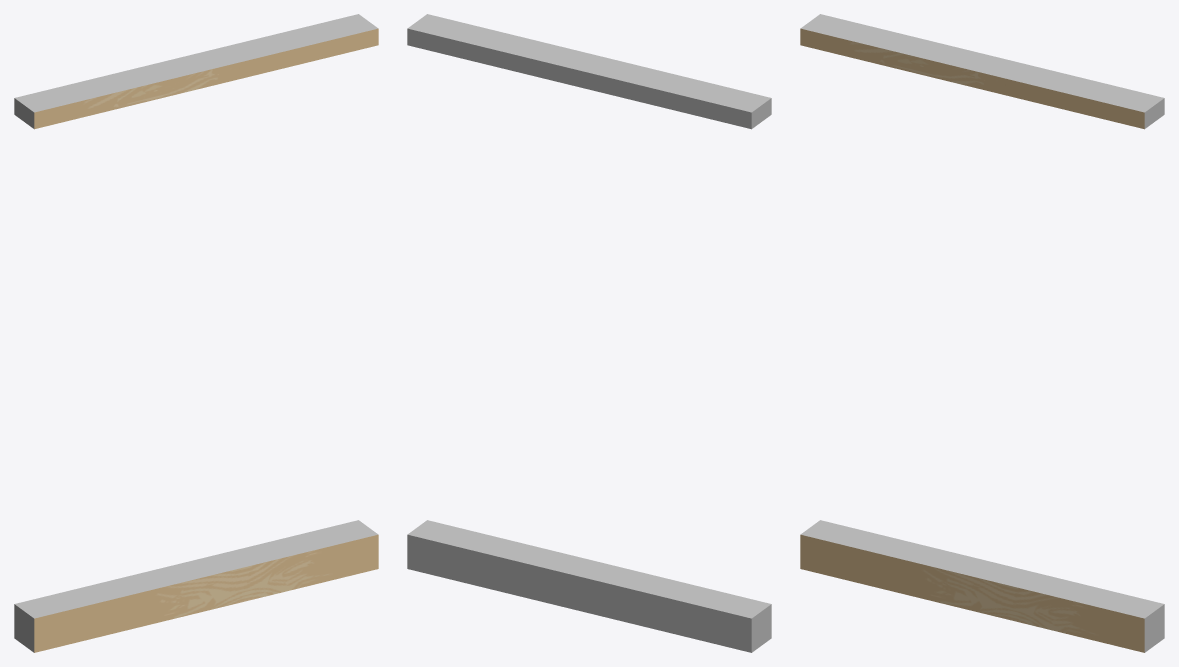
File: Wall Standard Window 5 - B.fbx
The picture shows the model from 3 angles, left to right: view 1: azimuth 30°, elevation 25°; view 2: azimuth 150°, elevation 25°; view 3: azimuth 330°, elevation 25°; orthographic projection.
Visible parts, largest first — view 1: Wall Standard (Window 5 - B); view 2: Wall Standard (Window 5 - B); view 3: Wall Standard (Window 5 - B).
Part boxes in pixels (bbox=[...]): Wall Standard (Window 5 - B): bbox=[14, 14, 378, 652]; Wall Standard (Window 5 - B): bbox=[407, 14, 771, 652]; Wall Standard (Window 5 - B): bbox=[800, 14, 1164, 652].
Bounding box in the file's own units: 200 × 300 × 20.
